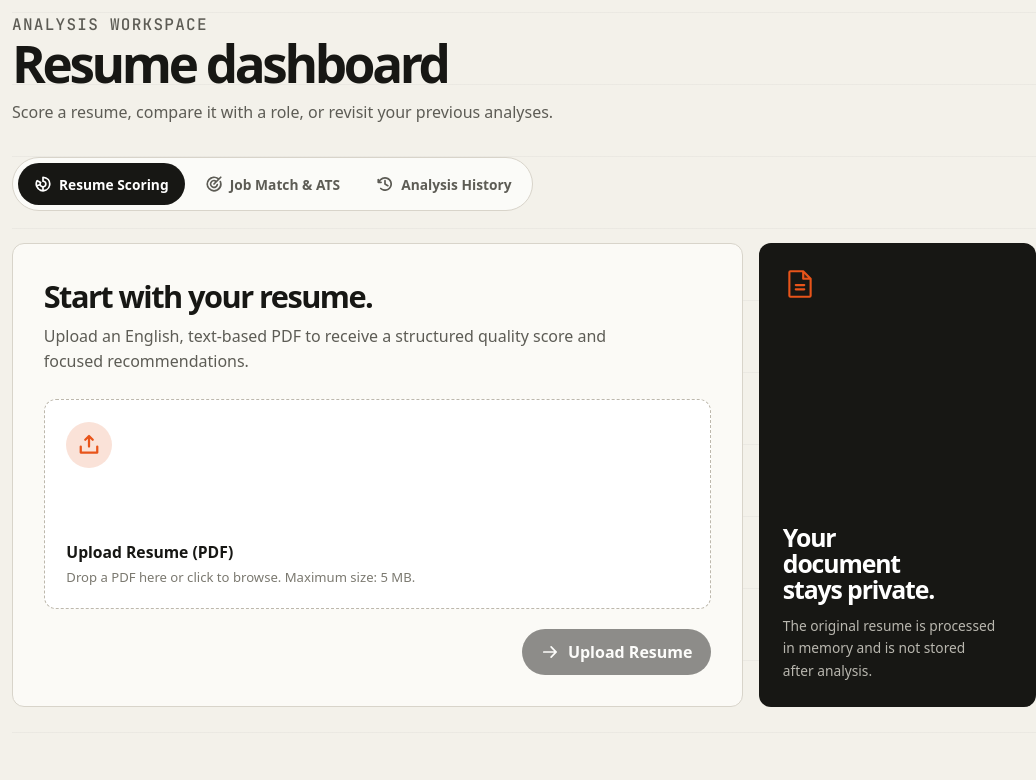
Scenario: DashboardPage › renders a dedicated empty state when history has no items
Click the button "Analysis History".
click(444, 184)  # box [360, 163, 528, 205]
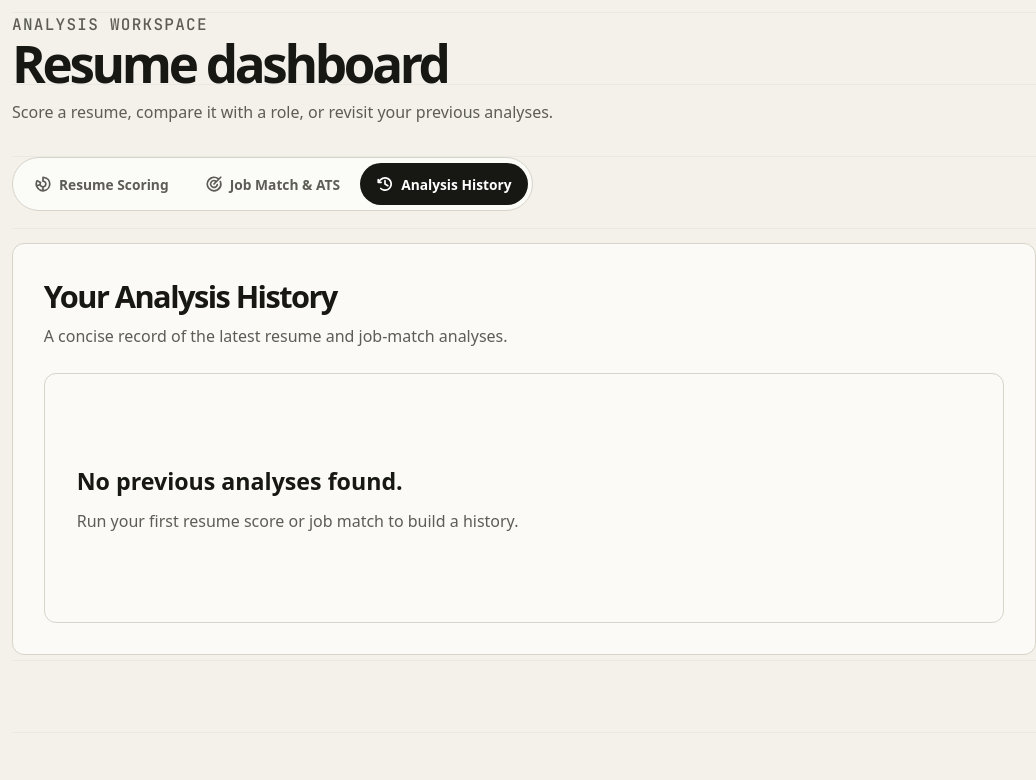
Result: the heading "No previous analyses found." is shown at [77, 465, 403, 497]
